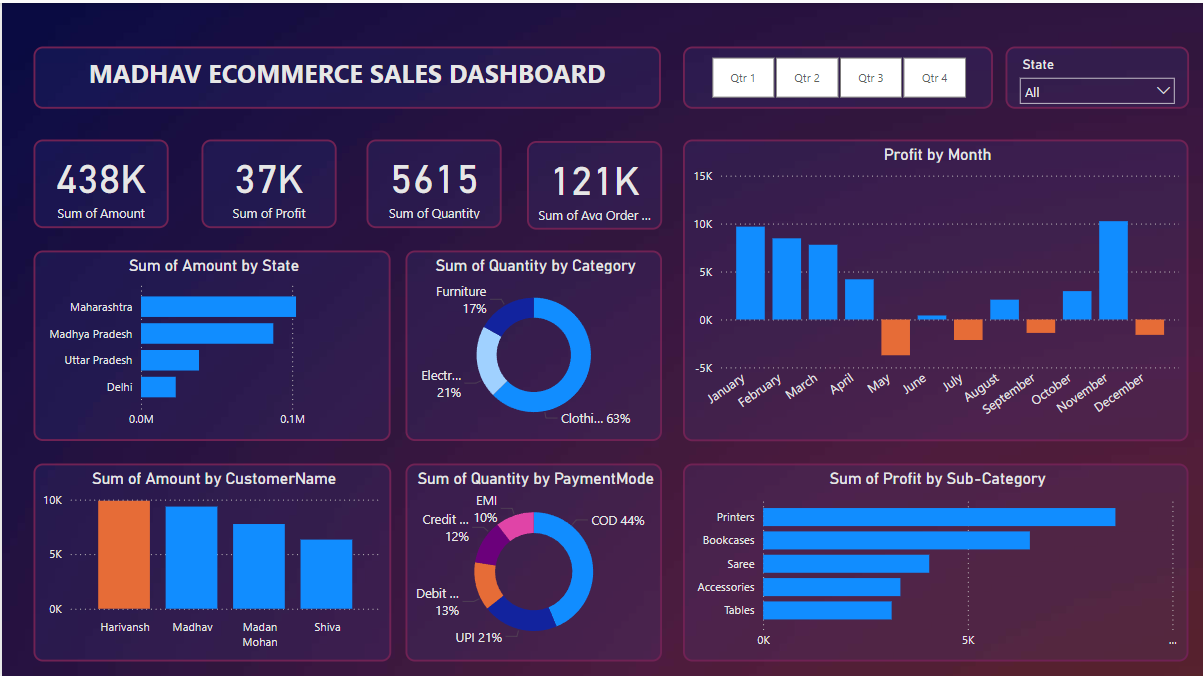

The dashboard page shown, as its layout file describes it:
{"tool":"powerbi","page":{"name":"Page 1","canvas":[1280,720],"ordinal":0},"visuals":[{"type":"columnChart","title":"Profit by Month","fields":{"Y":["Details.Profit"],"Category":["Orders.Order Date.Variation.Date Hierarchy.Month"]},"box":[722.1,144.7,536,319.7],"z":0},{"type":"barChart","fields":{"Category":["Details.Sub-Category"],"Y":["Details.Profit"]},"box":[722.1,488.3,536,210],"z":1000},{"type":"donutChart","fields":{"Y":["Details.Quantity"],"Category":["Details.PaymentMode"]},"box":[427.9,488.3,272,210],"z":2000},{"type":"donutChart","fields":{"Category":["Details.Category"],"Y":["Details.Quantity"]},"box":[427.9,262.5,272,202],"z":3000},{"type":"card","fields":{"Values":["Details.Amount"]},"box":[33.4,144.7,143.2,93.8],"z":4000},{"type":"card","fields":{"Values":["Details.Profit"]},"box":[211.6,144.7,143.2,93.8],"z":5000},{"type":"card","fields":{"Values":["Details.Quantity"]},"box":[386.5,144.7,143.2,93.8],"z":6000},{"type":"card","fields":{"Values":["Details.Avg Order Value"]},"box":[556.7,146.3,143.2,93.8],"z":7000},{"type":"barChart","fields":{"Category":["Orders.State"],"Y":["Details.Amount"]},"box":[33.4,262.5,378.6,202],"z":8000},{"type":"columnChart","fields":{"Category":["Orders.CustomerName"],"Y":["Details.Amount"]},"box":[33,488,379,210],"z":9000},{"type":"textbox","box":[34,45.4,665.2,66.1],"z":10000},{"type":"slicer","fields":{"Values":["Orders.Order Date.Variation.Date Hierarchy.Quarter"]},"box":[721.9,45.4,328.8,66.1],"z":10001},{"type":"slicer","fields":{"Values":["Orders.State"]},"box":[1063.9,45.4,194.6,66.1],"z":10002}]}

Visuals, with their boxes in screenshot pixels (x1, y1, x2, y2), scaled from the page's 1280x720 canvas onto the 1203x676 screenshot:
"Profit by Month" columnChart: [679, 136, 1182, 436]
barChart - Details.Sub-Category x Details.Profit: [679, 458, 1182, 656]
donutChart - Details.Quantity x Details.PaymentMode: [402, 458, 658, 656]
donutChart - Details.Category x Details.Quantity: [402, 246, 658, 436]
card - Details.Amount: [31, 136, 166, 224]
card - Details.Profit: [199, 136, 333, 224]
card - Details.Quantity: [363, 136, 498, 224]
card - Details.Avg Order Value: [523, 137, 658, 225]
barChart - Orders.State x Details.Amount: [31, 246, 387, 436]
columnChart - Orders.CustomerName x Details.Amount: [31, 458, 387, 655]
textbox: [32, 43, 657, 105]
slicer - Orders.Order Date.Variation.Date Hierarchy.Quarter: [678, 43, 987, 105]
slicer - Orders.State: [1000, 43, 1183, 105]
